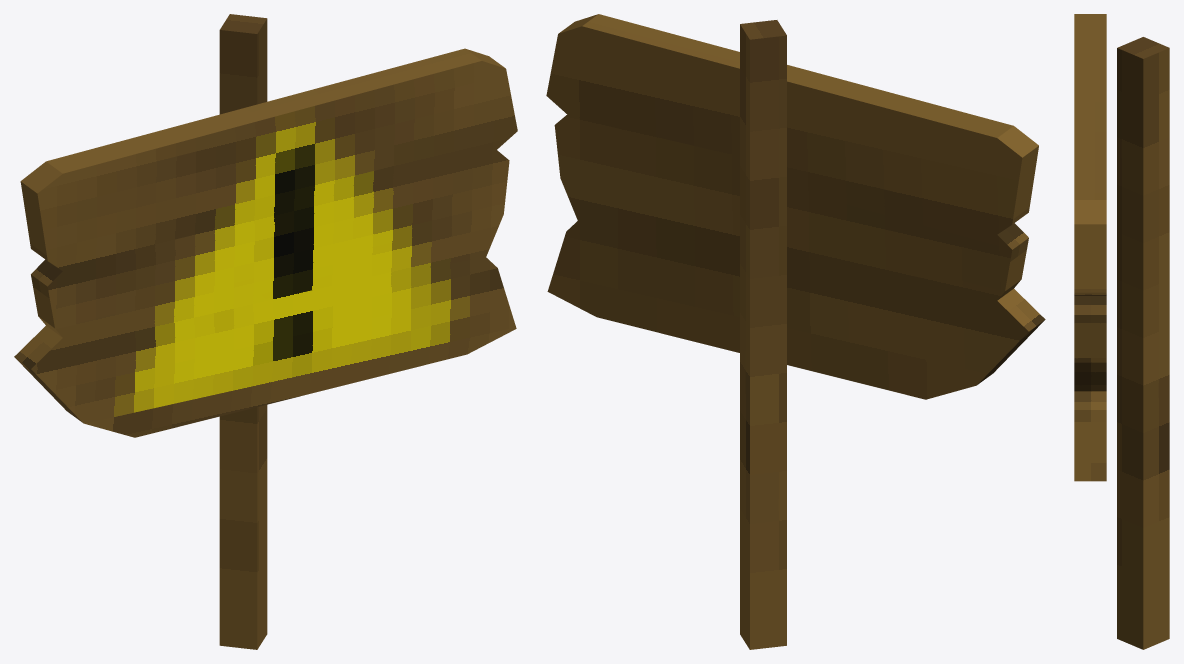
Rendered from Sign_Danger.gltf.
3 renders of one model, left to right at view 1: azimuth 30°, elevation 25°; view 2: azimuth 150°, elevation 25°; view 3: azimuth 270°, elevation 25°, orthographic. The views are drawn at different scales.
Parts seen in each view (by area): view 1: Stick; view 2: Stick; view 3: Stick.
Part boxes in pixels (bbox=[...]): Stick: bbox=[14, 14, 517, 649]; Stick: bbox=[546, 14, 1045, 649]; Stick: bbox=[1074, 14, 1169, 649].
Bounding box in the file's own units: 3.07 × 3.71 × 0.5441.
1 material, 1 textured.
